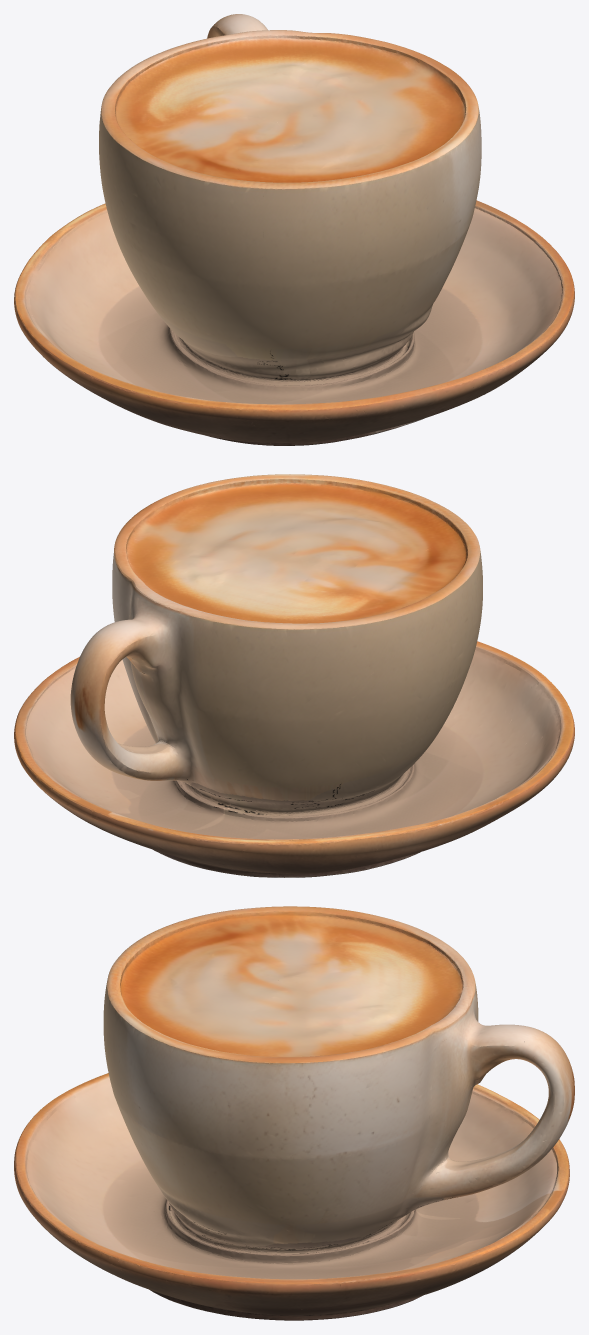
Rendered from cup.glb.
3 views of the same model, one above another, from view 1: azimuth 30°, elevation 25°; view 2: azimuth 150°, elevation 25°; view 3: azimuth 270°, elevation 25° (orthographic). The views are drawn at different scales.
Visible parts, largest first — view 1: model; view 2: model; view 3: model.
Boxes of the visible parts, box(x1,y1,x2,y2) form: model: box(14, 14, 574, 445); model: box(14, 474, 574, 877); model: box(14, 906, 574, 1320).
Size of the model in its own units: 1.9 by 0.9858 by 1.9.
1 material, 1 textured.
